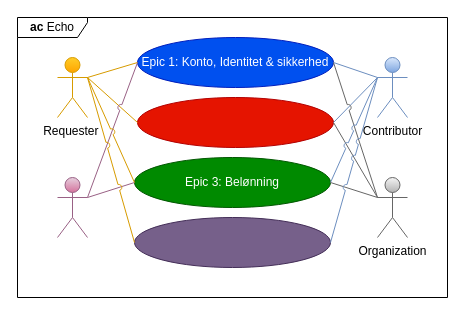
Image size: 465x315. Some labels were removed from this diagram. Here are the shapes that lost their labels. From the top down, the centre of each, then its label:
(235,122): Epic 2: Opgaver
(72,207): Reward partner
(232,242): Epic 4: Rating
